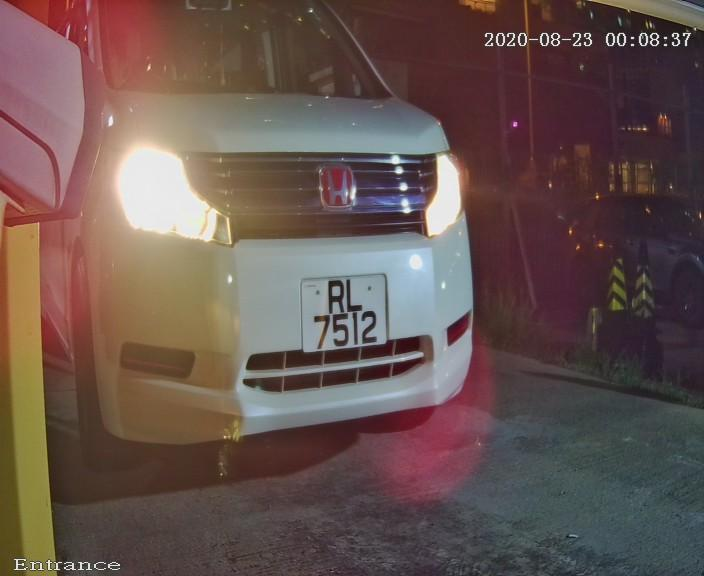Car: (23, 26, 538, 487)
License Plate: (290, 263, 400, 368)
